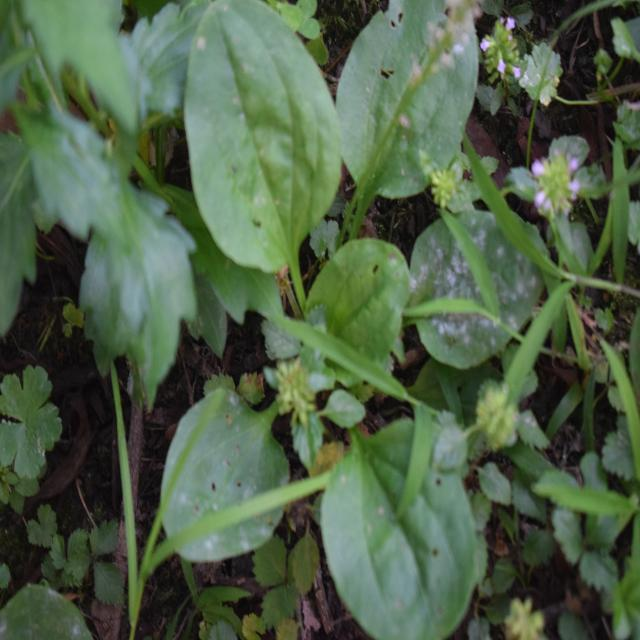plantain: (176, 0, 524, 621)
